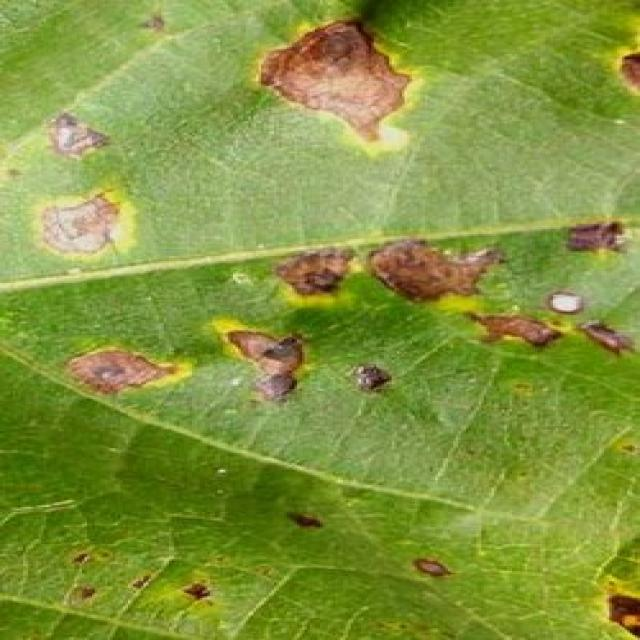Bacterial Blight: (44, 55, 640, 427)
